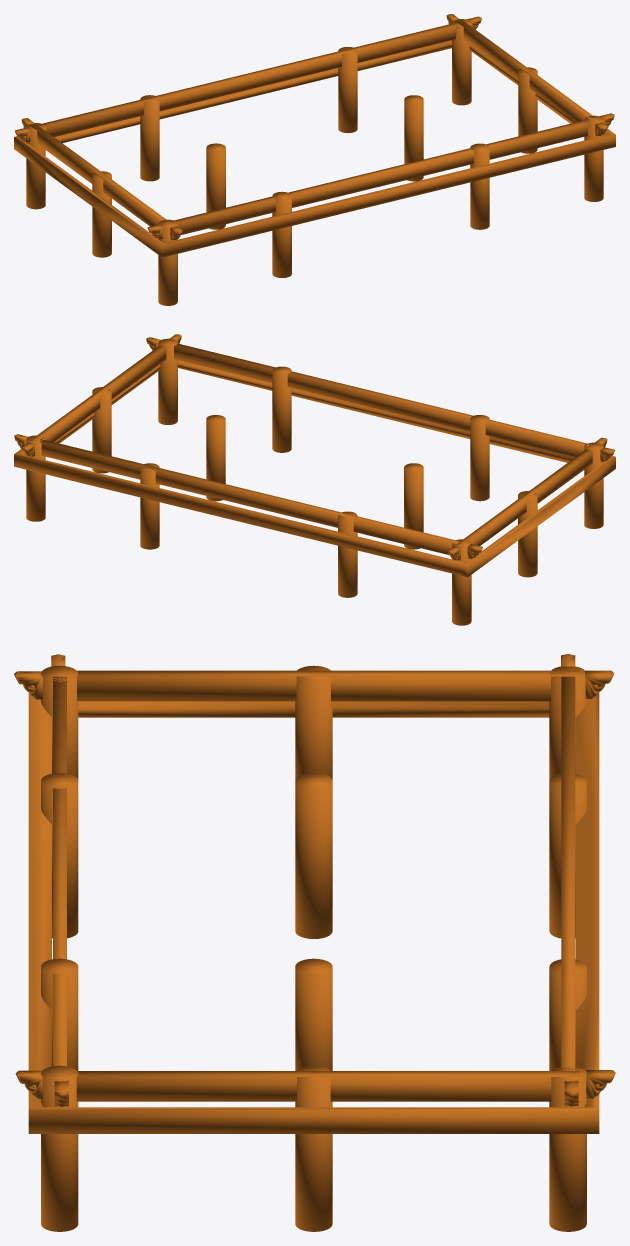
File: building_07.glb
3 views of the same model, one above another, from view 1: azimuth 30°, elevation 25°; view 2: azimuth 150°, elevation 25°; view 3: azimuth 270°, elevation 25° (orthographic). The views are drawn at different scales.
Parts seen in each view (by area): view 1: full_building.007; view 2: full_building.007; view 3: full_building.007.
Part boxes in pixels (box(x1,y1,x2,y2)): full_building.007: box(14, 14, 615, 305); full_building.007: box(14, 334, 615, 625); full_building.007: box(14, 654, 615, 1231).
Size of the model in its own units: 3.11 by 0.497 by 1.8.
